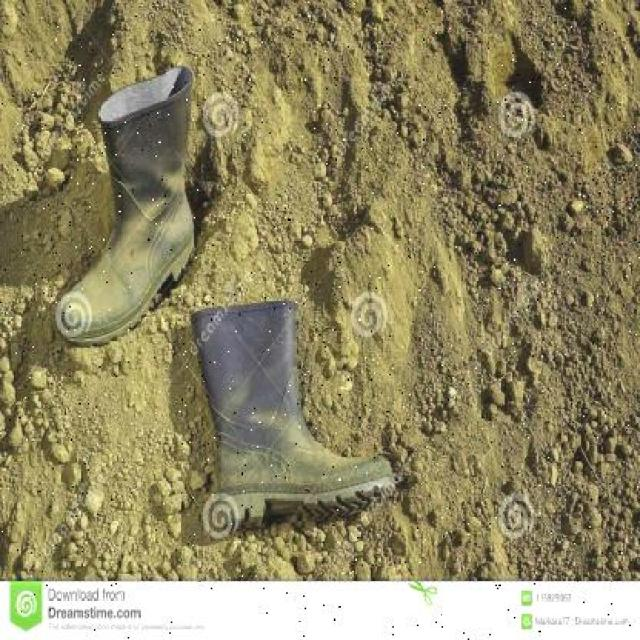shoes: (196, 305, 379, 526), (65, 68, 193, 337)
